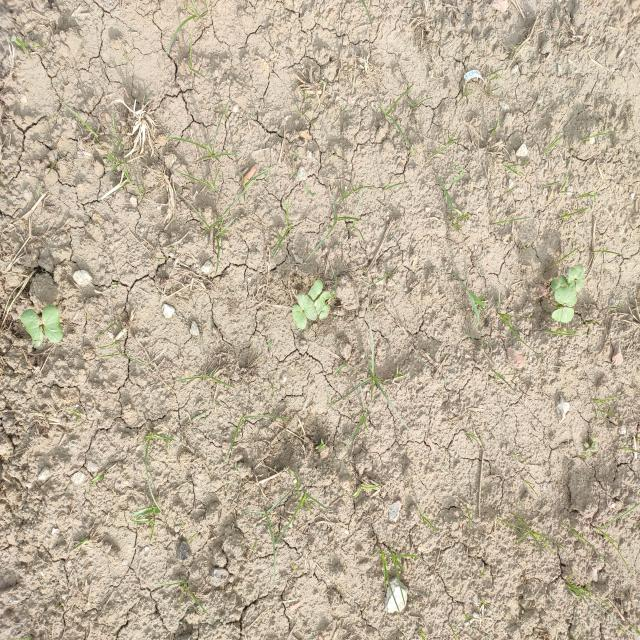seedling_s2: (20, 310, 44, 347), (41, 306, 63, 342), (297, 294, 317, 321), (554, 286, 577, 307), (292, 304, 307, 329), (551, 307, 574, 323), (308, 279, 323, 301), (314, 292, 330, 311), (552, 275, 568, 294), (575, 265, 584, 293), (319, 303, 330, 321), (568, 267, 577, 288)
